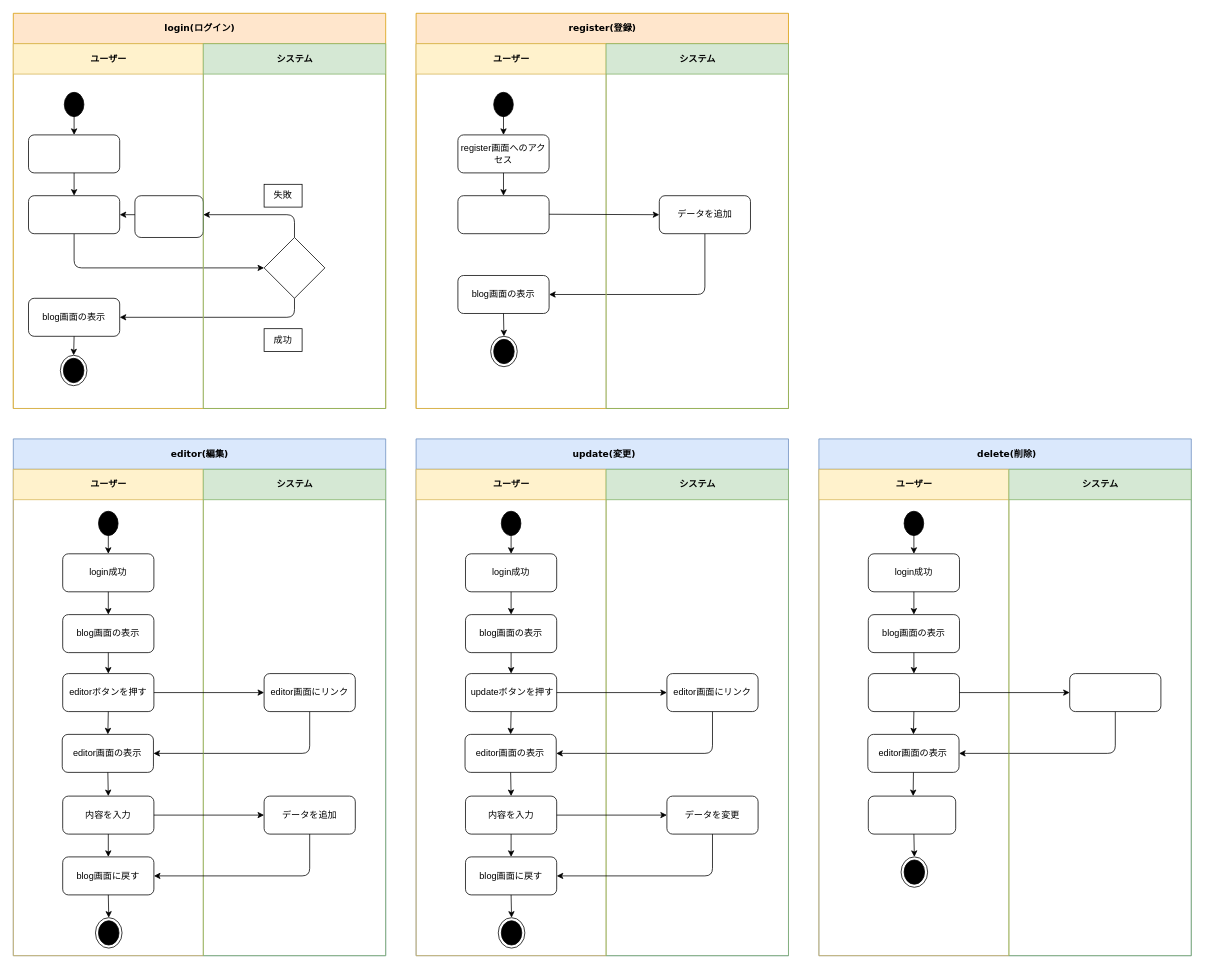
Image size: 1205x969. Some labels were removed from this diagram. The box of each missing label's shape, as (x1, y1, x2, y2) in pixels:
deleteボタンを押す: (868, 673, 960, 712)
fail画面の表示: (134, 195, 203, 238)
login画面へのアクセス: (28, 134, 120, 173)
username & password&pwdagainを入力: (457, 195, 549, 234)
username & passwordを入力: (28, 195, 120, 234)
データを削除: (1069, 673, 1161, 712)
データを確認: (263, 237, 325, 298)
削除後のblog画面の表示: (868, 795, 956, 834)
